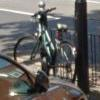bicycles: (12, 6, 78, 85)
